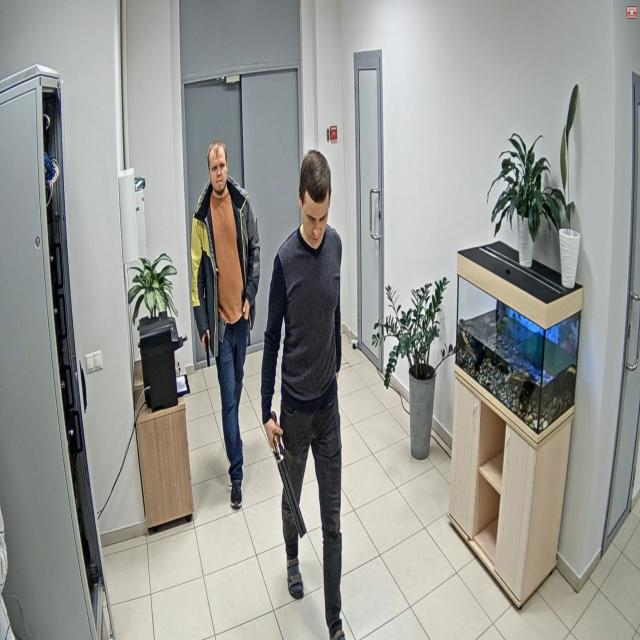-Gun: (271, 413, 306, 538), (205, 333, 210, 367)
